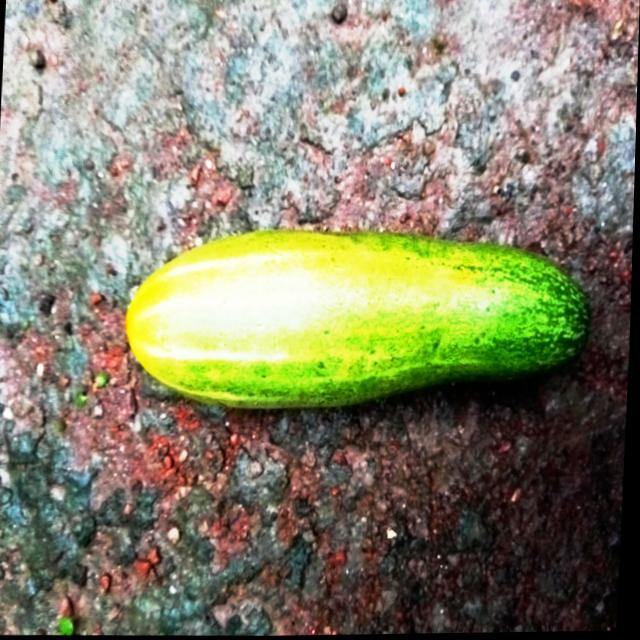Fresh-Cucumber: (122, 218, 601, 424)
